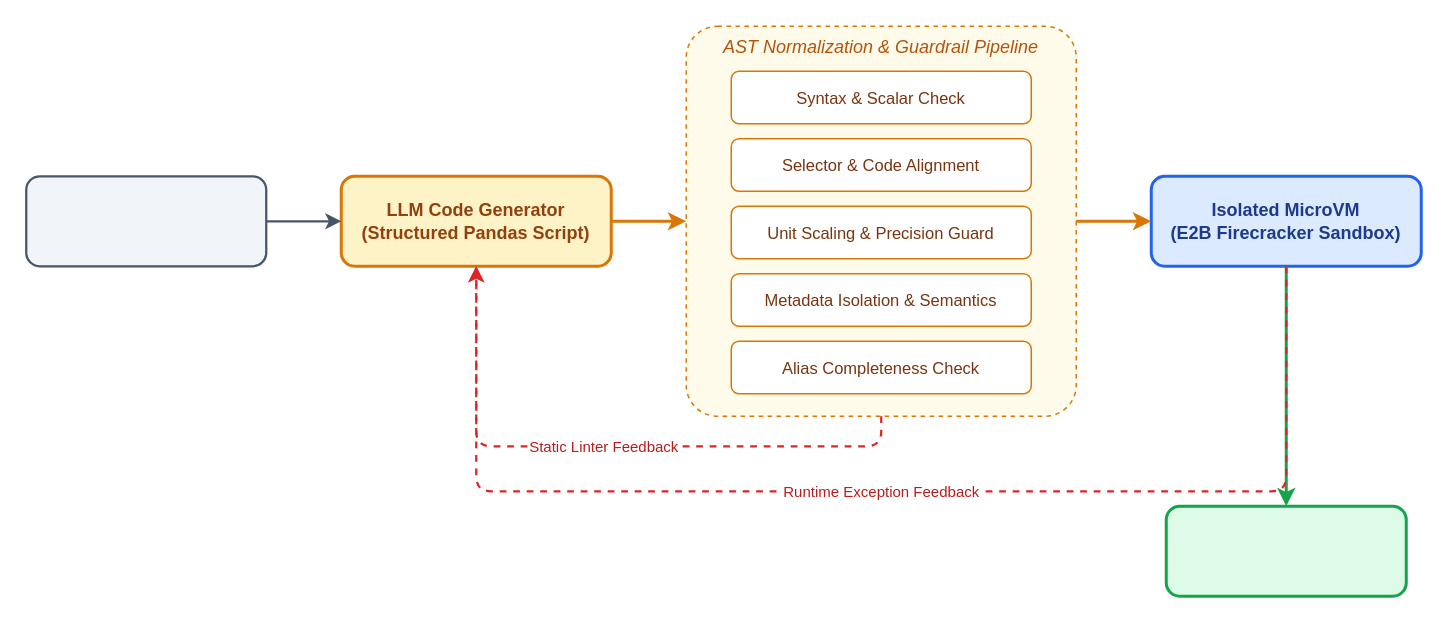
Some shapes in this 1449 by 624 pixel diagram are drawn without their labels. The shapes that lost their labels are listed below. From the top down, each one's centre as x and y in pixels, then its label:
At [145,220]: "Planned Context & Hydrated Rows".
At [1285,550]: "Validated Scalar JSON Payload (≤ 1 KB)".
